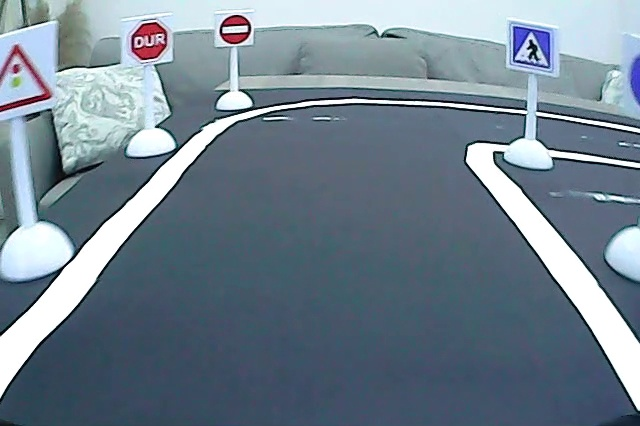do not enter: (218, 11, 253, 47)
pedestrian crossing: (508, 21, 555, 74)
red light: (1, 39, 56, 116)
stop sign: (128, 16, 173, 66)
